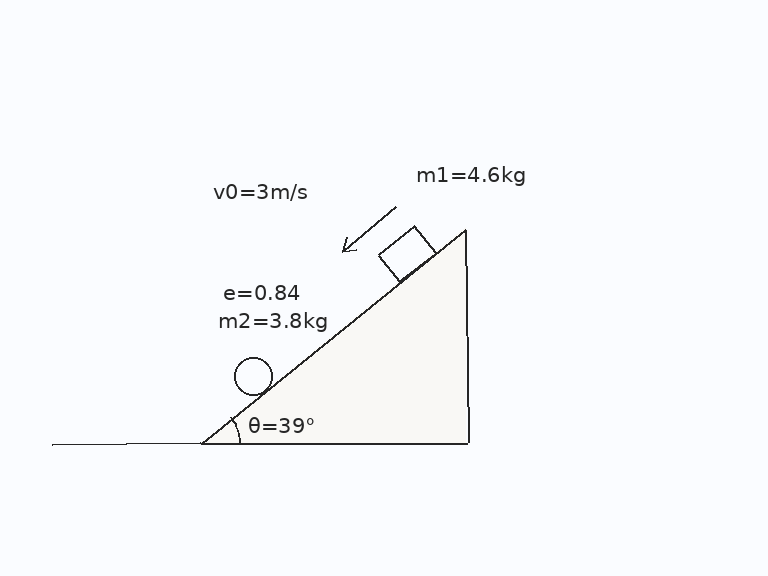ball: (232, 355, 274, 397)
block: (376, 224, 437, 284)
ramp: (198, 226, 468, 445)
